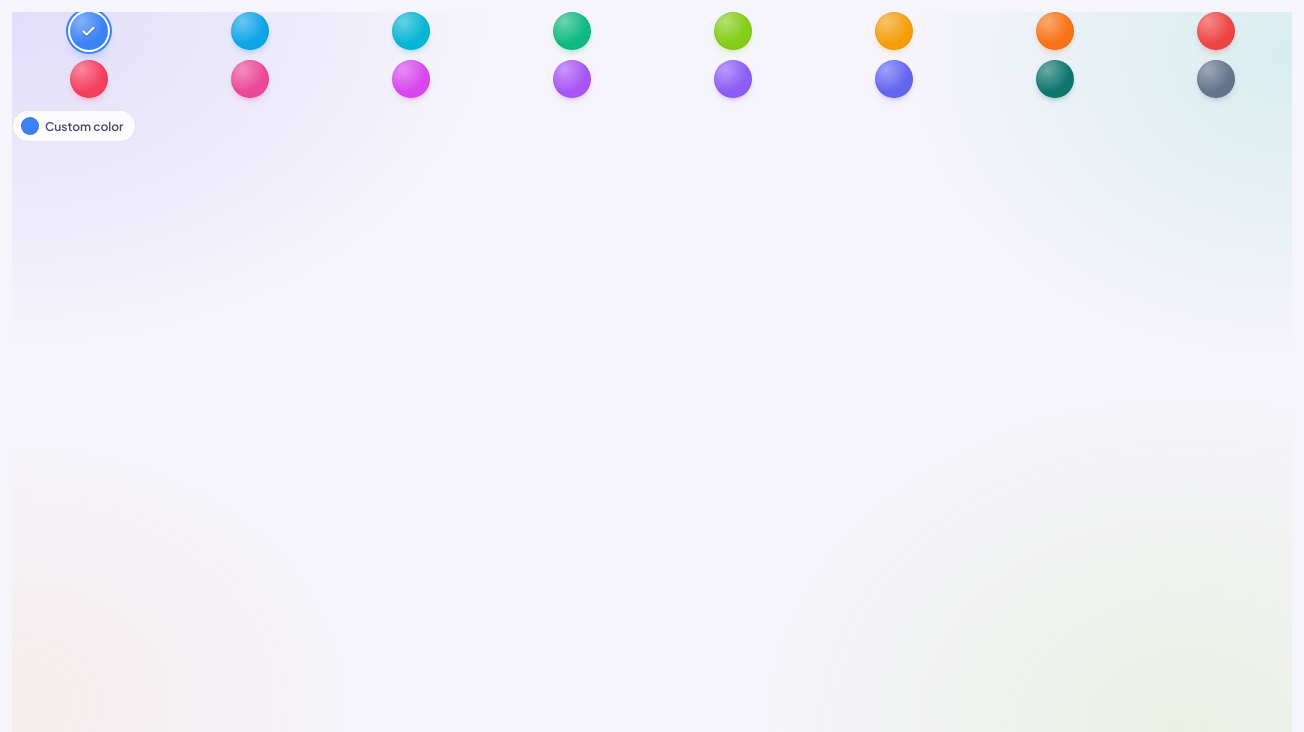
Test: ColorPicker › custom color › accepts a hex code typed without the leading #
This screenshot has width=1304, height=732.
Click the button "Custom color": (74, 126) [12,110,136,142]
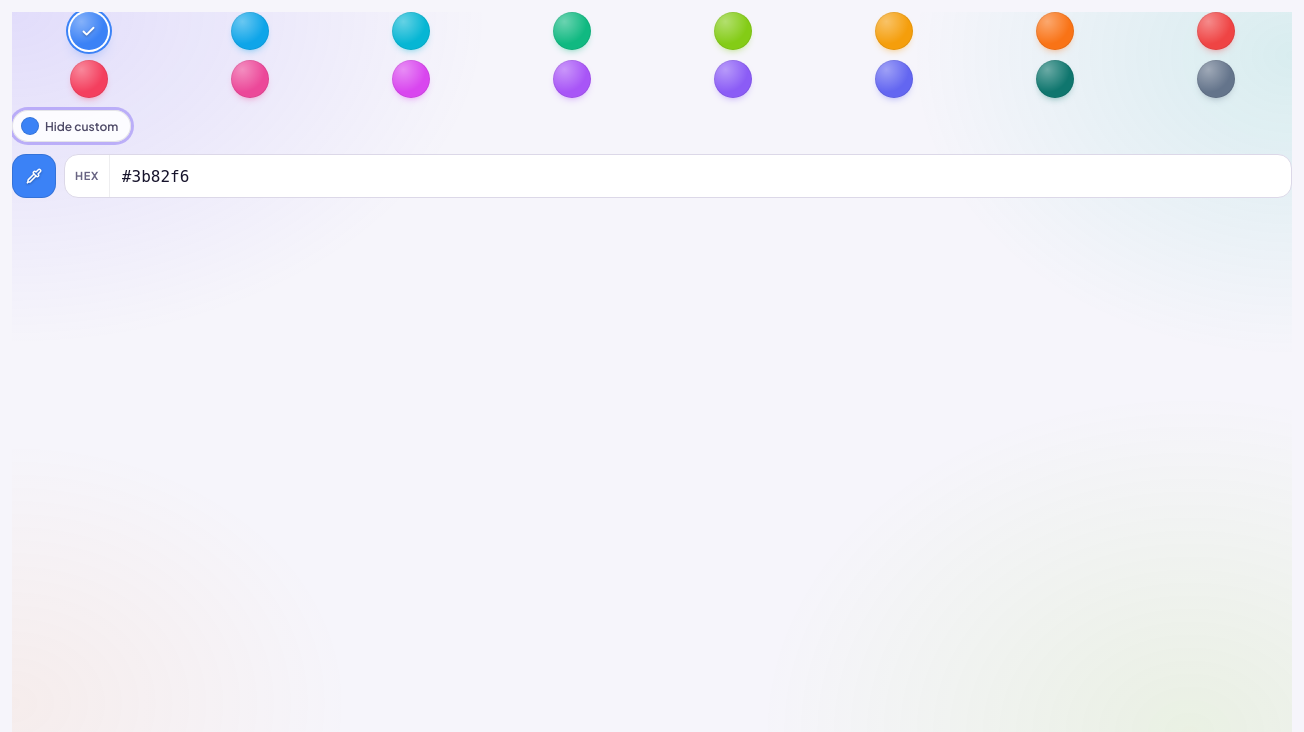
Replace the text in the field named "Hex color code" with "ff0000": (700, 176) [110,155,1291,197]
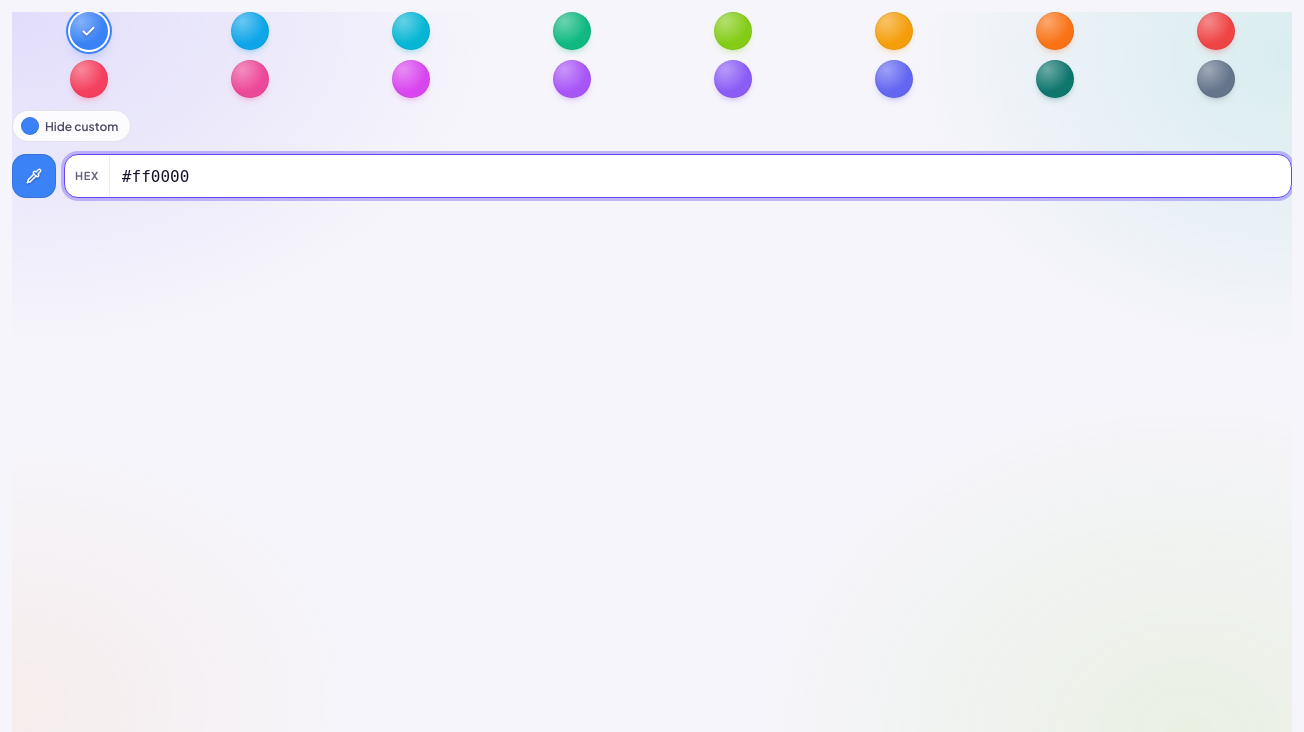
Check: the field named "Hex color code" holds "#ff0000", box [110,155,1291,197]
